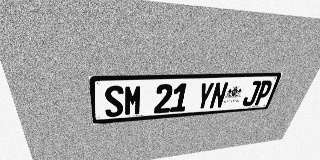1: (170, 83, 190, 112)
2: (154, 84, 173, 114)
J: (241, 81, 262, 106)
M: (124, 85, 143, 116)
N: (209, 82, 229, 109)
P: (253, 80, 274, 105)
S: (104, 85, 123, 117)
Y: (195, 82, 215, 110)
